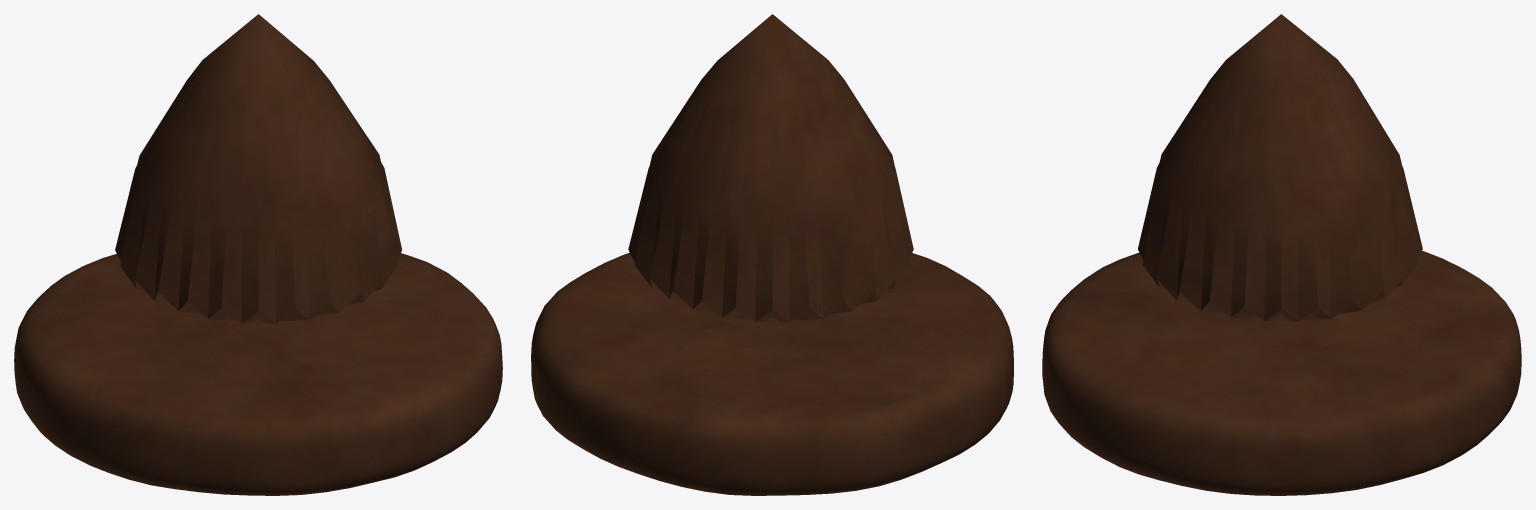
Rendered from candy_choc_chip.glb.
3 views of the same model, side by side, from view 1: azimuth 30°, elevation 25°; view 2: azimuth 150°, elevation 25°; view 3: azimuth 270°, elevation 25° (orthographic).
Parts seen in each view (by area): view 1: candy_choc_chip; view 2: candy_choc_chip; view 3: candy_choc_chip.
Part boxes in pixels (bbox=[...]): candy_choc_chip: bbox=[14, 14, 502, 495]; candy_choc_chip: bbox=[531, 14, 1013, 495]; candy_choc_chip: bbox=[1042, 14, 1521, 495].
Size of the model in its own units: 0.677 by 0.5992 by 0.6699.
Materials: 1 (1 with a texture image).
